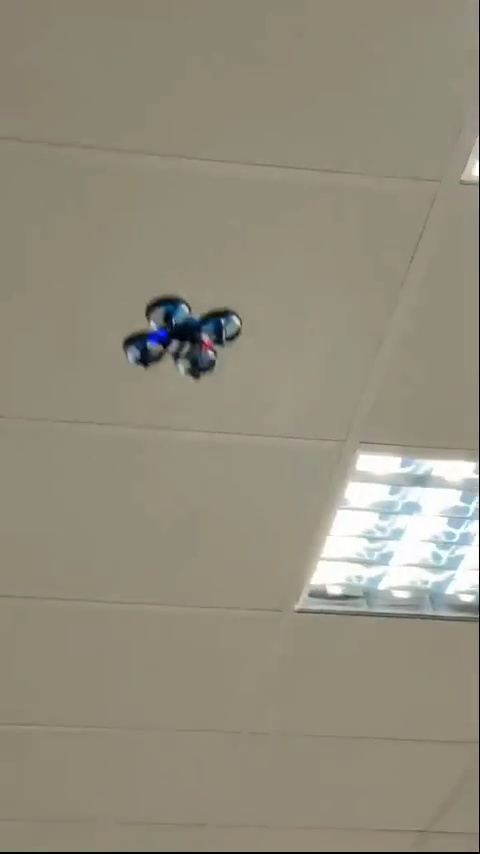drone: (117, 295, 243, 387)
